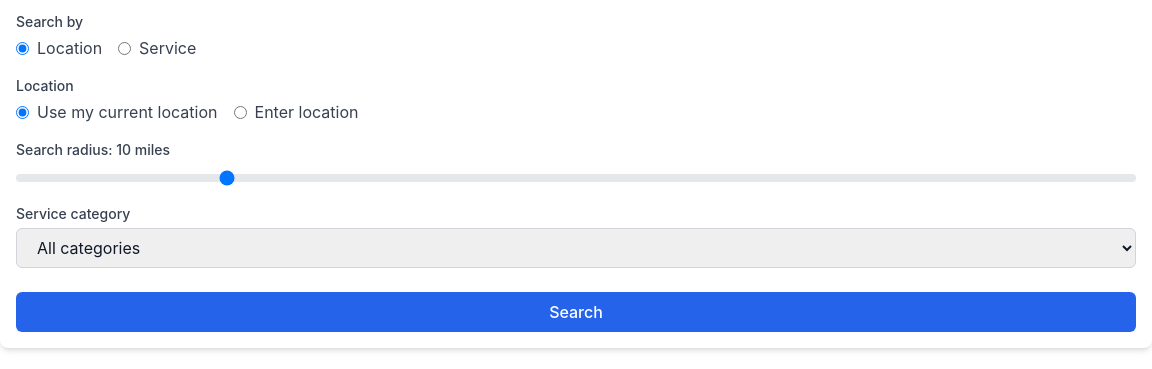
Scenario: SearchForm Component › toggles between location and service search
expect the text "Use my current location" is shown: met, box [37, 100, 218, 124]
// Switch to service search
What coordinates should you click on to do the following:
click the radio button labelled "Service"
I would click on:
 (125, 48)
Its box is [118, 42, 131, 54].
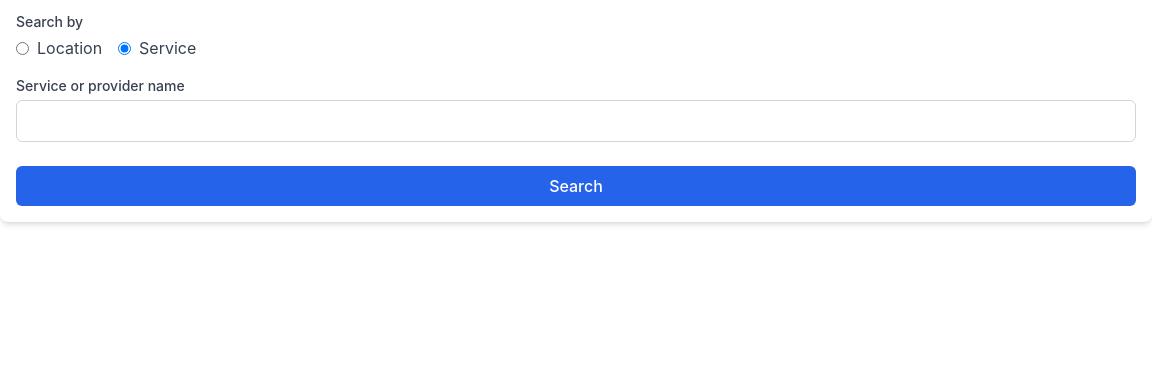
expect the field with placeholder "Hair styling, nail salon, etc." is shown: met, box [16, 100, 1136, 142]
expect the text "Use my current location" is gone: met
// Switch back to location search
What coordinates should you click on to do the following:
click the radio button labelled "Location"
I would click on:
 (22, 48)
Its box is [16, 42, 29, 54].
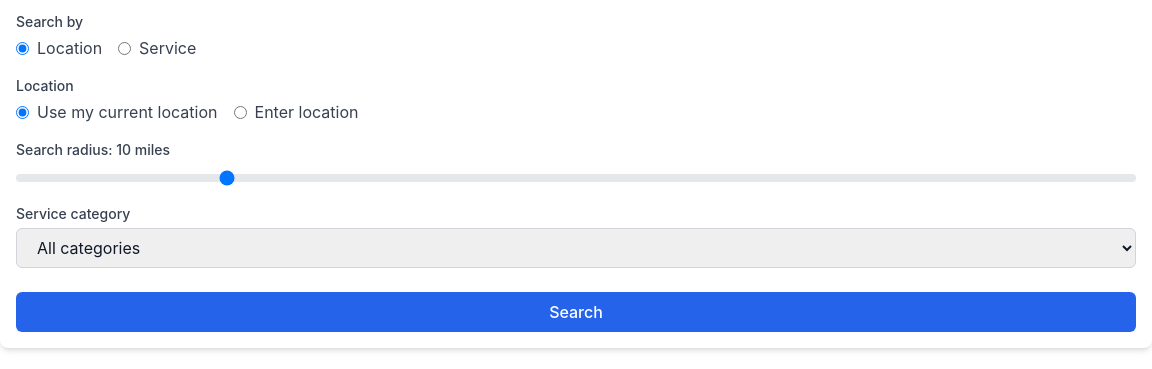
expect the text "Use my current location" is shown: met, box [37, 100, 218, 124]
